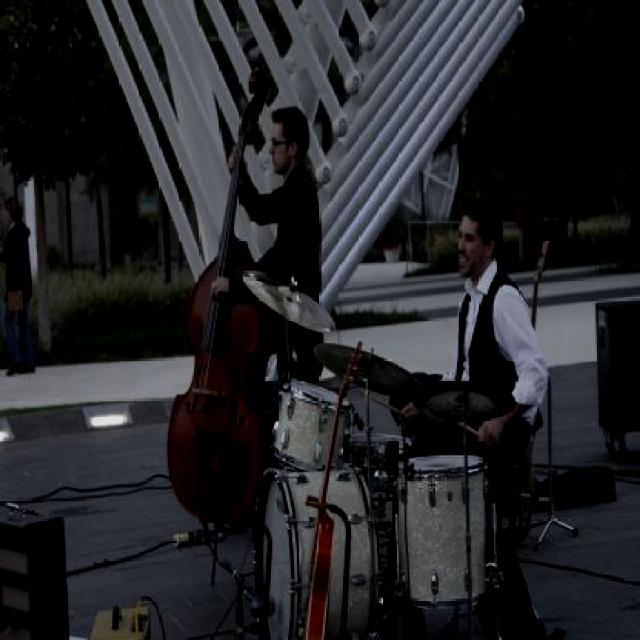Person: (401, 198, 548, 640), (212, 105, 326, 382), (1, 194, 37, 382)
